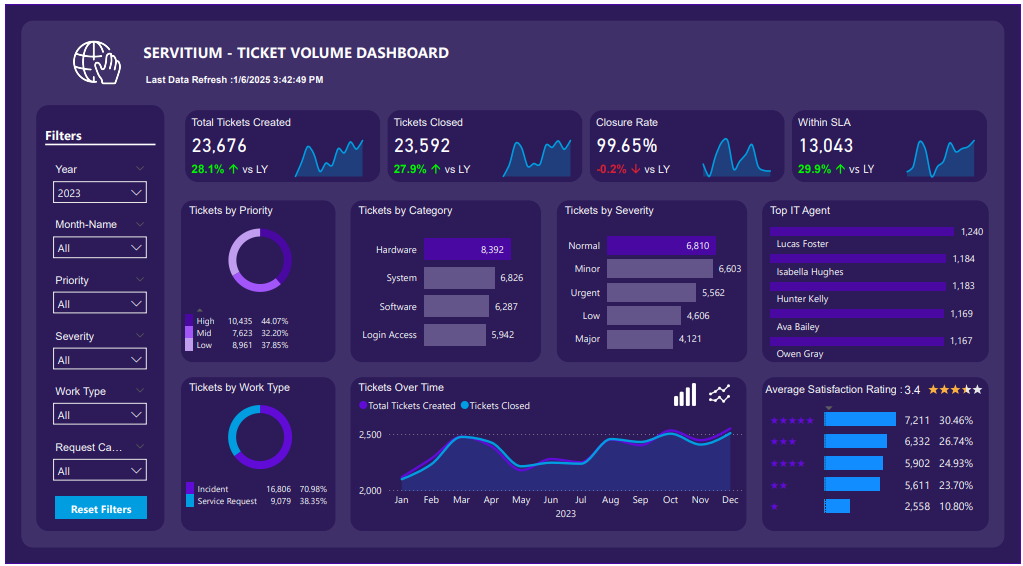

This screenshot's page, from the dashboard's own definition file:
{"tool":"powerbi","page":{"name":"Ticket Volumne Dashboard","canvas":[1290,720],"ordinal":0},"visuals":[{"type":"shape","box":[49,136.4,160,531.9],"z":0,"group":"g1"},{"type":"shape","box":[10,10,1270,699],"z":0},{"type":"shape","box":[49,48,526.1,69.6],"z":1000},{"type":"slicer","fields":{"Values":["Tickets.Request Category"]},"box":[60,551,137.5,59],"z":1000,"group":"g1"},{"type":"shape","box":[30,30,1230,659],"z":2000},{"type":"slicer","fields":{"Values":["Tickets.Work Type"]},"box":[60,481.6,137.5,59],"z":2000,"group":"g1"},{"type":"slicer","fields":{"Values":["Priority.Priority"]},"box":[60,342.8,137.5,59],"z":3000,"group":"g1"},{"type":"shape","box":[230,476.2,192.7,191.3],"z":3000},{"type":"shape","box":[230,254.6,192.7,202.3],"z":4000},{"type":"slicer","fields":{"Values":["Severity.Severity"]},"box":[60,412.2,137.5,59],"z":4000,"group":"g1"},{"type":"textbox","box":[178,48.1,410.1,42],"z":5000},{"type":"slicer","fields":{"Values":["Calendar.Year"]},"box":[60,204,137.5,59],"z":5000,"group":"g1"},{"type":"slicer","fields":{"Values":["Calendar.Month-Name"]},"box":[60,273.4,137.5,59],"z":6000,"group":"g1"},{"type":"shape","box":[441.8,254.6,238.1,202.3],"z":6000},{"type":"textbox","box":[54.8,158,85.3,37.2],"z":7000,"group":"g1"},{"type":"cardVisual","fields":{"Data":["Measure Table.Data Refresh"]},"box":[176.8,86.4,365.2,30.5],"z":7000},{"type":"shape","box":[60.1,178.6,137.5,13.4],"z":8000,"group":"g1"},{"type":"shape","box":[956.7,254.6,283.5,202.3],"z":8000},{"type":"image","box":[87,47.8,73.9,69.6],"z":9000},{"type":"actionButton","box":[72.8,625.1,113.8,28.3],"z":9000,"group":"g1"},{"type":"shape","box":[699.8,254.6,238.1,202.3],"z":10000},{"type":"shape","box":[442,476.2,495.5,191.3],"z":11000},{"type":"shape","box":[956.7,476.2,283.5,191.3],"z":12000},{"type":"donutChart","title":"Tickets by Priority","fields":{"Y":["Measure Table.Total Tickets Created"],"Category":["Priority.Priority"]},"box":[230,254.6,192.7,129.4],"z":13000},{"type":"group","id":"g1","title":"Group 2","box":[49,136.4,160,531.9],"z":14000},{"type":"clusteredBarChart","title":"Tickets by Category","fields":{"Y":["Measure Table.Total Tickets Created"],"Category":["Request Color.Request Category"]},"box":[441.8,254.6,238.1,202.3],"z":15000},{"type":"tableEx","fields":{"Values":["Priority.Color","Priority.Priority","Measure Table.Total Tickets Created","Divide(Measure Table.Total Tickets Created, ScopedEval(Measure Table.Total Tickets Created, []))"]},"box":[230,374.4,192.7,84],"z":16000},{"type":"clusteredBarChart","title":"Tickets by Severity","fields":{"Y":["Measure Table.Total Tickets Created"],"Category":["Severity.Severity"]},"box":[699.8,254.6,238.1,202.3],"z":17000},{"type":"clusteredBarChart","title":"Top IT Agent","fields":{"Y":["Measure Table.Total Tickets Closed","Measure Table.Label 0"],"Category":["IT_Agents.Full Name"]},"box":[956.7,254.6,283.5,202.3],"z":18000},{"type":"donutChart","title":"Tickets by Work Type","fields":{"Y":["Measure Table.Total Tickets Created"],"Category":["Issue Color.Issue Type","Priority.Priority"]},"box":[230,476.2,192.7,129.4],"z":19000},{"type":"tableEx","fields":{"Values":["Issue Color.Issue Color","Issue Color.Issue Type","Measure Table.Total Tickets Created","Divide(Measure Table.Total Tickets Created, ScopedEval(Measure Table.Total Tickets Created, []))"]},"box":[230,583.6,192.7,84],"z":20000},{"type":"areaChart","title":"Tickets Over Time","fields":{"Category":["Calendar.Year Hierarchy.Year","Calendar.Year Hierarchy.Month-Name"],"Y":["Measure Table.Total Tickets Created","Measure Table.Total Tickets Closed"]},"box":[442,476.2,495.5,191.3],"z":21000},{"type":"image","box":[838.6,478.5,42.7,37.6],"z":23000},{"type":"image","box":[881.3,478.5,44.4,35.9],"z":24000},{"type":"tableEx","fields":{"Values":["Tickets.Star","Measure Table.Total Tickets Created","Measure Table.Total tickets created 2","Measure Table.Total tickets created 3"]},"box":[956.4,489,284.3,163.7],"z":25000},{"type":"textbox","box":[956.4,476.3,208.4,37.2],"z":26000},{"type":"card","fields":{"Values":["Measure Table.Average Satisfaction Rating"]},"box":[1127.8,481,34.2,25.3],"z":27000},{"type":"PBI_CV_9053509D_D461_463A_B485_CE9F6AB0F13D","fields":{"value":["Measure Table.Average Satisfaction Rating"]},"box":[1159.8,478,78.9,23.8],"z":28000},{"type":"cardVisual","fields":{"Data":["Measure Table.Total Tickets Created","Measure Table.Tickets Closed","Measure Table.Closure Rate","Measure Table.Within SLA"]},"box":[229.5,136.5,1014,100.5],"z":29000},{"type":"PBI_CV_25997FEB_F466_44FA_B562_AC4063283C4C","fields":{"measure":["Measure Table.Total Tickets Created"],"axis":["Calendar.Month"]},"box":[360,168,114,63],"z":30000},{"type":"PBI_CV_25997FEB_F466_44FA_B562_AC4063283C4C","fields":{"measure":["Measure Table.Tickets Closed"],"axis":["Calendar.Month"]},"box":[620,168,114,63],"z":31000},{"type":"PBI_CV_25997FEB_F466_44FA_B562_AC4063283C4C","fields":{"measure":["Measure Table.Closure Rate"],"axis":["Calendar.Month"]},"box":[870,168,114,63],"z":32000},{"type":"PBI_CV_25997FEB_F466_44FA_B562_AC4063283C4C","fields":{"measure":["Measure Table.Within SLA"],"axis":["Calendar.Month"]},"box":[1125,168,114,63],"z":33000}]}

Visuals, with their boxes in screenshot pixels (x1, y1, x2, y2), scaled from the page's 1290x720 canvas onto the 1023x566 screenshot:
shape: box=[39, 107, 166, 525]
shape: box=[8, 8, 1015, 557]
shape: box=[39, 38, 456, 92]
slicer - Tickets.Request Category: box=[48, 433, 157, 480]
shape: box=[24, 24, 999, 542]
slicer - Tickets.Work Type: box=[48, 379, 157, 425]
slicer - Priority.Priority: box=[48, 269, 157, 316]
shape: box=[182, 374, 335, 525]
shape: box=[182, 200, 335, 359]
slicer - Severity.Severity: box=[48, 324, 157, 370]
textbox: box=[141, 38, 466, 71]
slicer - Calendar.Year: box=[48, 160, 157, 207]
slicer - Calendar.Month-Name: box=[48, 215, 157, 261]
shape: box=[350, 200, 539, 359]
textbox: box=[43, 124, 111, 153]
cardVisual - Measure Table.Data Refresh: box=[140, 68, 430, 92]
shape: box=[48, 140, 157, 151]
shape: box=[759, 200, 984, 359]
image: box=[69, 38, 128, 92]
actionButton: box=[58, 491, 148, 514]
shape: box=[555, 200, 744, 359]
shape: box=[351, 374, 743, 525]
shape: box=[759, 374, 984, 525]
"Tickets by Priority" donutChart: box=[182, 200, 335, 302]
"Group 2" group: box=[39, 107, 166, 525]
"Tickets by Category" clusteredBarChart: box=[350, 200, 539, 359]
tableEx - Priority.Color x Priority.Priority: box=[182, 294, 335, 360]
"Tickets by Severity" clusteredBarChart: box=[555, 200, 744, 359]
"Top IT Agent" clusteredBarChart: box=[759, 200, 984, 359]
"Tickets by Work Type" donutChart: box=[182, 374, 335, 476]
tableEx - Issue Color.Issue Color x Issue Color.Issue Type: box=[182, 459, 335, 525]
"Tickets Over Time" areaChart: box=[351, 374, 743, 525]
image: box=[665, 376, 699, 406]
image: box=[699, 376, 734, 404]
tableEx - Tickets.Star x Measure Table.Total Tickets Created: box=[758, 384, 984, 513]
textbox: box=[758, 374, 924, 404]
card - Measure Table.Average Satisfaction Rating: box=[894, 378, 921, 398]
PBI_CV_9053509D_D461_463A_B485_CE9F6AB0F13D - Measure Table.Average Satisfaction Rating: box=[920, 376, 982, 394]
cardVisual - Measure Table.Total Tickets Created x Measure Table.Tickets Closed: box=[182, 107, 986, 186]
PBI_CV_25997FEB_F466_44FA_B562_AC4063283C4C - Measure Table.Total Tickets Created x Calendar.Month: box=[285, 132, 376, 182]
PBI_CV_25997FEB_F466_44FA_B562_AC4063283C4C - Measure Table.Tickets Closed x Calendar.Month: box=[492, 132, 582, 182]
PBI_CV_25997FEB_F466_44FA_B562_AC4063283C4C - Measure Table.Closure Rate x Calendar.Month: box=[690, 132, 780, 182]
PBI_CV_25997FEB_F466_44FA_B562_AC4063283C4C - Measure Table.Within SLA x Calendar.Month: box=[892, 132, 983, 182]
